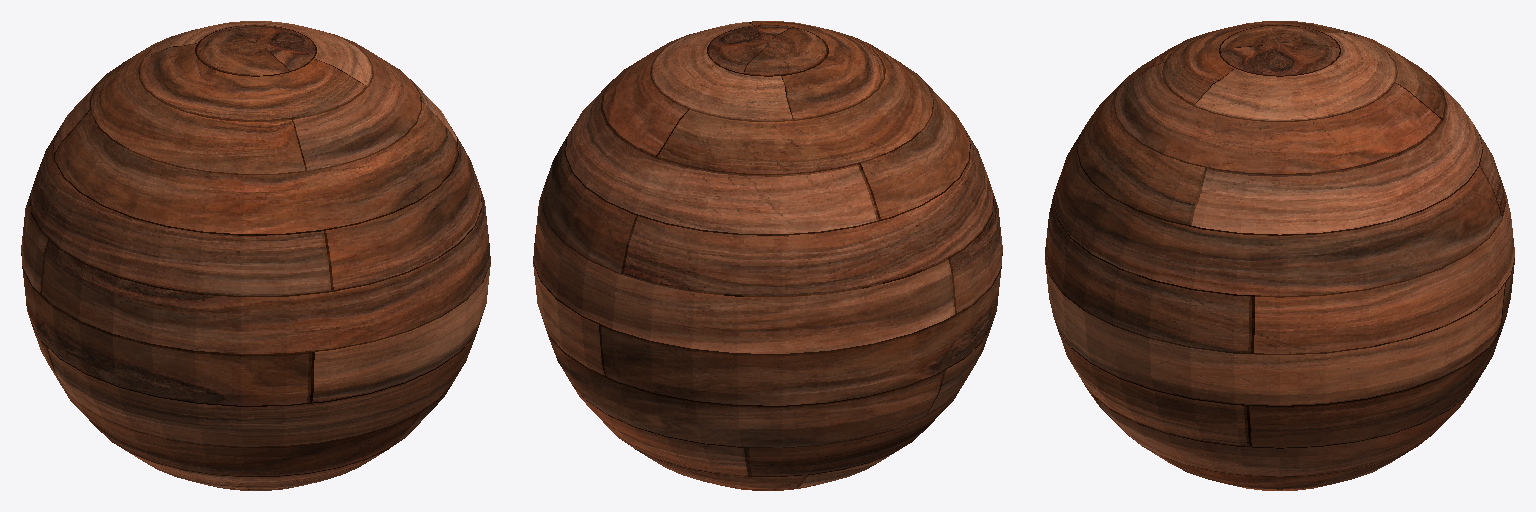
3 views of the same model, side by side, from view 1: azimuth 30°, elevation 25°; view 2: azimuth 150°, elevation 25°; view 3: azimuth 270°, elevation 25° (orthographic).
Visible parts, largest first — view 1: Sphere001; view 2: Sphere001; view 3: Sphere001.
Boxes of the visible parts, box(x1,y1,x2,y2) form: Sphere001: box(21, 21, 490, 490); Sphere001: box(533, 21, 1002, 490); Sphere001: box(1045, 21, 1514, 490).
Bounding box in the file's own units: 0.9842 × 0.9842 × 0.9842.
1 materials, 1 textured.